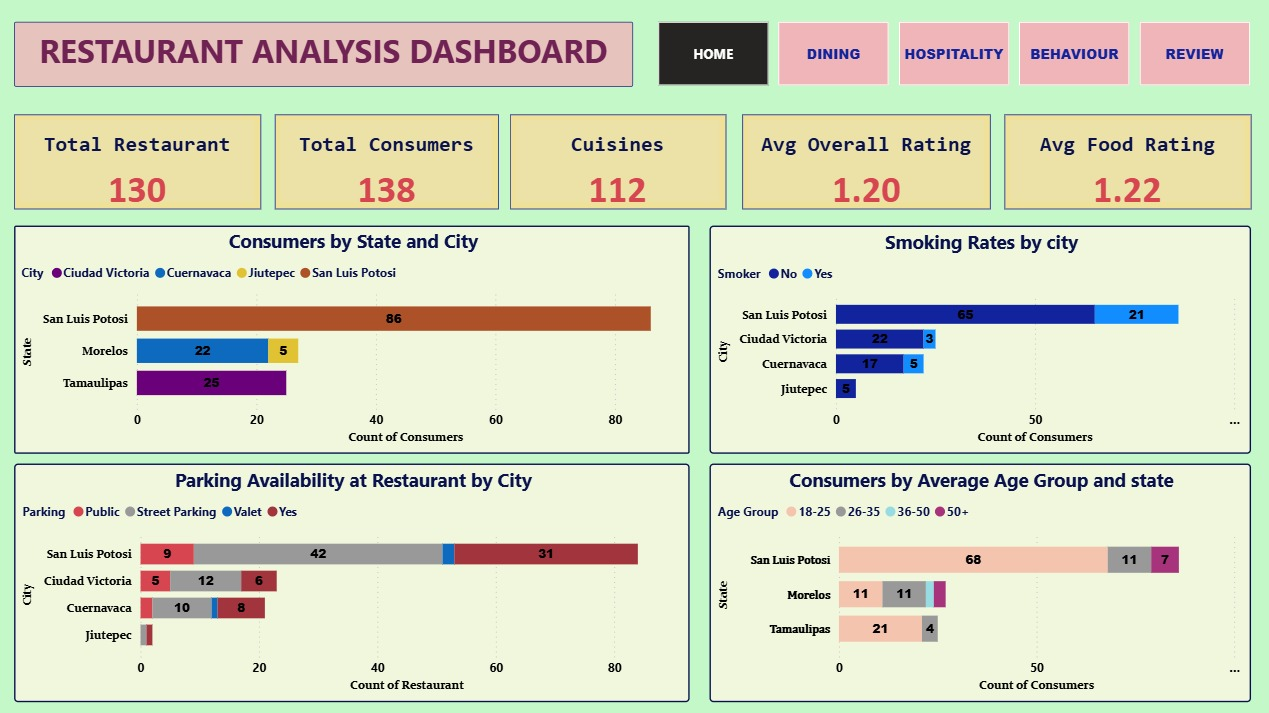

The dashboard page shown, as its layout file describes it:
{"tool":"powerbi","page":{"name":"HOME","canvas":[1280,720],"ordinal":0},"visuals":[{"type":"cardVisual","fields":{"Data":["CountNonNull(cleaned_restaurants_data.Restaurant_ID)"]},"box":[17.7,116.2,248.6,95.6],"z":0},{"type":"cardVisual","fields":{"Data":["CountNonNull(cleaned_consumers_data.Consumer_ID)"]},"box":[279.5,116.2,225,95.6],"z":1000},{"type":"cardVisual","fields":{"Data":["CountNonNull(restaurant_cuisines.Cuisine)"]},"box":[516.3,116.2,217.7,95.6],"z":2000},{"type":"cardVisual","fields":{"Data":["ratings.Avg Overall Rating"]},"box":[750.1,116.2,250,95.6],"z":3000},{"type":"cardVisual","fields":{"Data":["Avg(ratings.Food_Rating)"]},"box":[1013.4,116.2,248.6,95.6],"z":4000},{"type":"barChart","title":"Consumers by State and City","fields":{"Category":["cleaned_consumers_data.State"],"Y":["CountNonNull(cleaned_consumers_data.Consumer_ID)"],"Series":["cleaned_consumers_data.City"]},"box":[17.7,228,679.5,229.5],"z":5000},{"type":"barChart","title":"Parking Availability at  Restaurant by City ","fields":{"Category":["cleaned_restaurants_data.City"],"Y":["CountNonNull(cleaned_restaurants_data.Restaurant_ID)"],"Series":["cleaned_restaurants_data.Parking"]},"box":[17.7,467.7,679.5,239.7],"z":6000},{"type":"barChart","title":"Smoking Rates by city","fields":{"Y":["CountNonNull(cleaned_consumers_data.Consumers)"],"Category":["cleaned_consumers_data.City"],"Series":["cleaned_consumers_data.Smoker"]},"box":[716.3,228,544.2,229.5],"z":7000},{"type":"barChart","title":" Consumers by Average  Age Group and state","fields":{"Y":["CountNonNull(cleaned_consumers_data.Consumer_ID)"],"Series":["cleaned_consumers_data.Age Group"],"Category":["cleaned_consumers_data.State"]},"box":[716.3,467.7,544.2,239.7],"z":8000},{"type":"textbox","box":[17.3,23.1,622.4,65],"z":9000},{"type":"pageNavigator","box":[664.3,23.1,596.4,65],"z":10000}]}

Visuals, with their boxes in screenshot pixels (x1, y1, x2, y2), scaled from the page's 1280x720 canvas onto the 1269x713 screenshot:
cardVisual - CountNonNull(cleaned_restaurants_data.Restaurant_ID): box=[18, 115, 264, 210]
cardVisual - CountNonNull(cleaned_consumers_data.Consumer_ID): box=[277, 115, 500, 210]
cardVisual - CountNonNull(restaurant_cuisines.Cuisine): box=[512, 115, 728, 210]
cardVisual - ratings.Avg Overall Rating: box=[744, 115, 992, 210]
cardVisual - Avg(ratings.Food_Rating): box=[1005, 115, 1251, 210]
"Consumers by State and City" barChart: box=[18, 226, 691, 453]
"Parking Availability at  Restaurant by City " barChart: box=[18, 463, 691, 701]
"Smoking Rates by city" barChart: box=[710, 226, 1250, 453]
" Consumers by Average  Age Group and state" barChart: box=[710, 463, 1250, 701]
textbox: box=[17, 23, 634, 87]
pageNavigator: box=[659, 23, 1250, 87]
